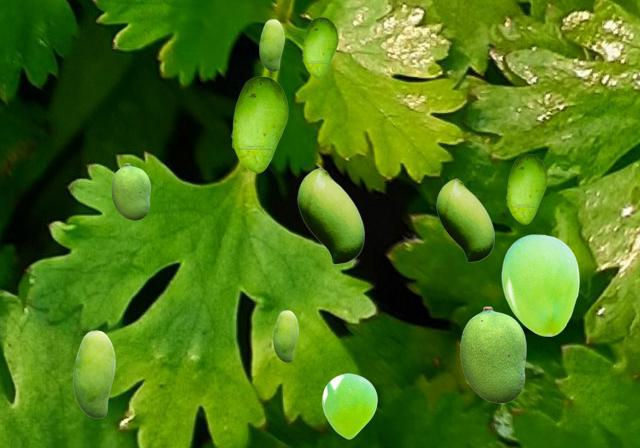green_mango: (501, 234, 578, 335), (297, 167, 363, 263), (460, 306, 525, 402), (231, 76, 287, 172), (436, 178, 493, 261), (73, 330, 114, 417), (322, 373, 376, 438), (506, 154, 546, 223), (111, 163, 149, 219), (302, 17, 337, 77), (273, 310, 297, 361), (259, 19, 283, 70)
